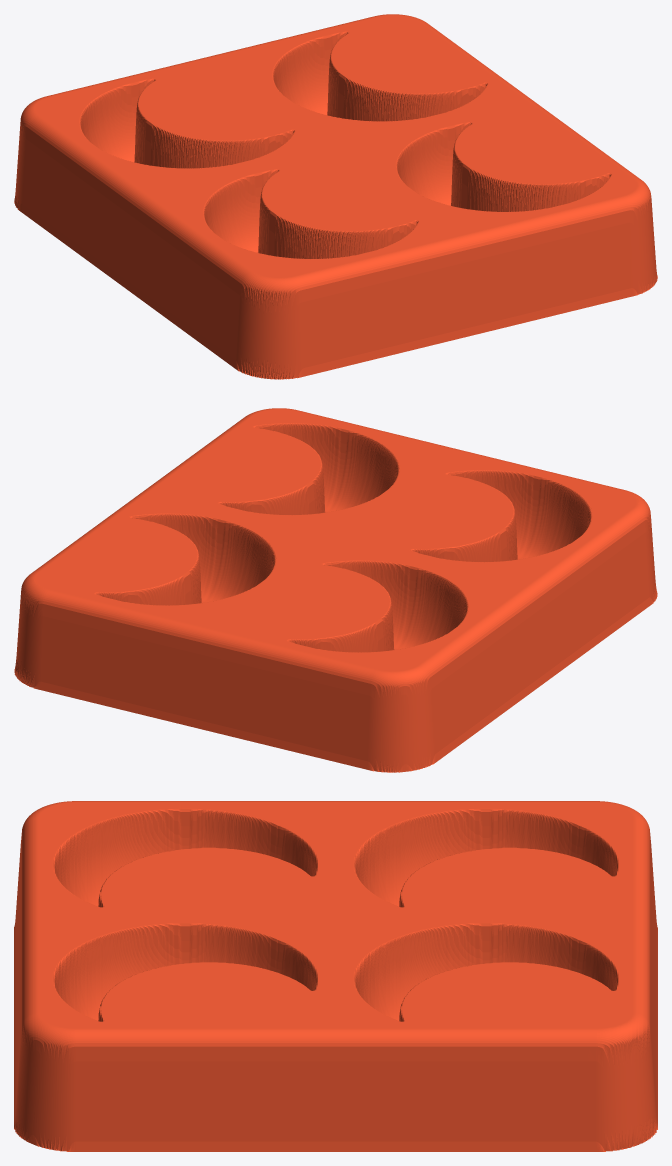
Rendered from mold.glb.
3 views of the same model, one above another, from view 1: azimuth 30°, elevation 25°; view 2: azimuth 150°, elevation 25°; view 3: azimuth 270°, elevation 25° (orthographic). The views are drawn at different scales.
Visible parts, largest first — view 1: geometry_0; view 2: geometry_0; view 3: geometry_0.
Boxes of the visible parts, x1,y1,x2,y2 form: geometry_0: (14,14,657,379); geometry_0: (14,408,657,772); geometry_0: (14,801,657,1151).
Size of the model in its own units: 0.0854 by 0.0182 by 0.0942.
